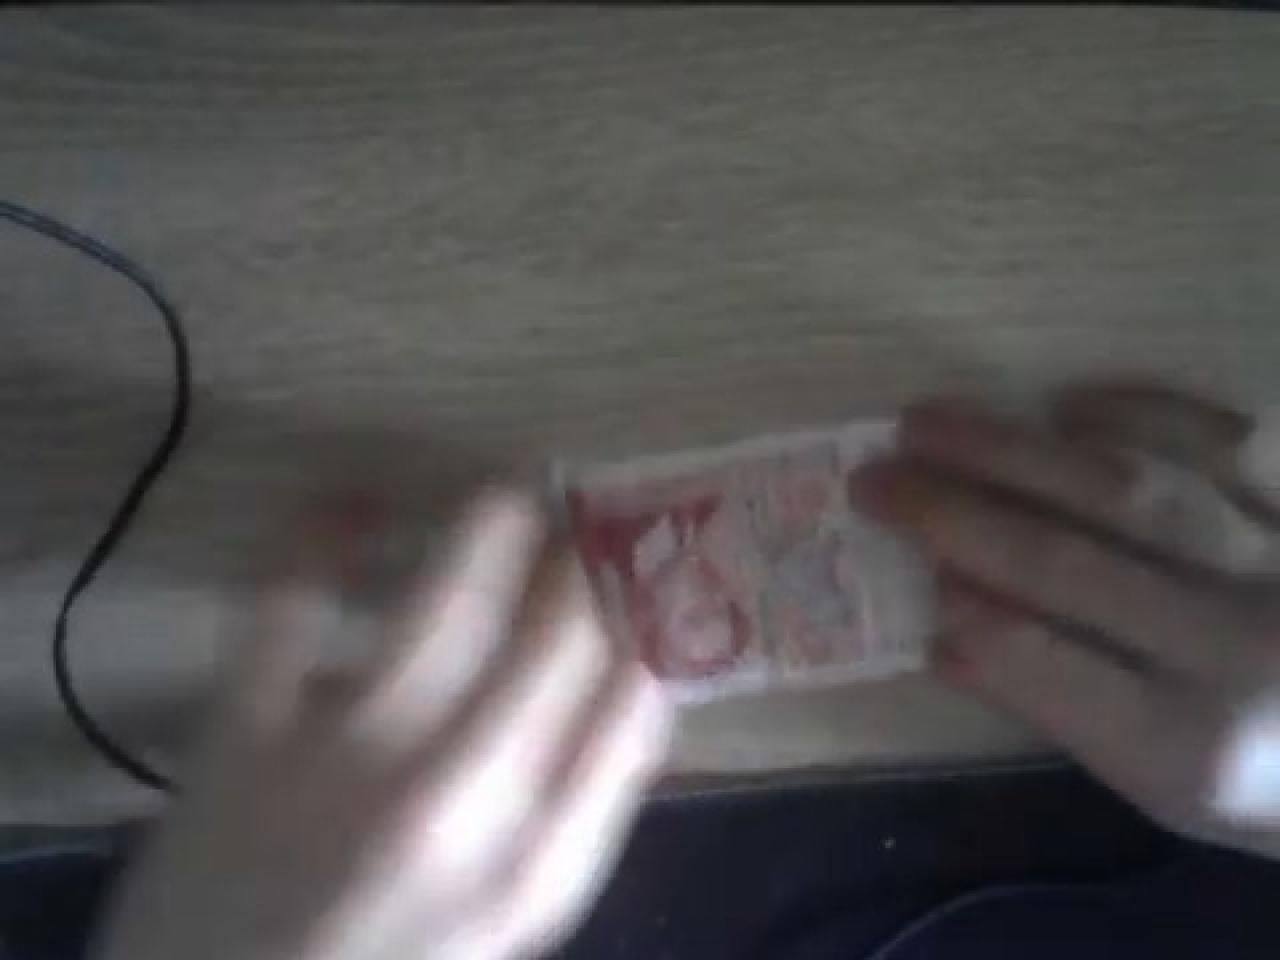5leva: (582, 435, 930, 701)
